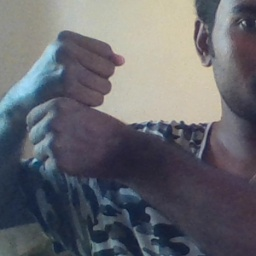G: (26, 26, 125, 180)
